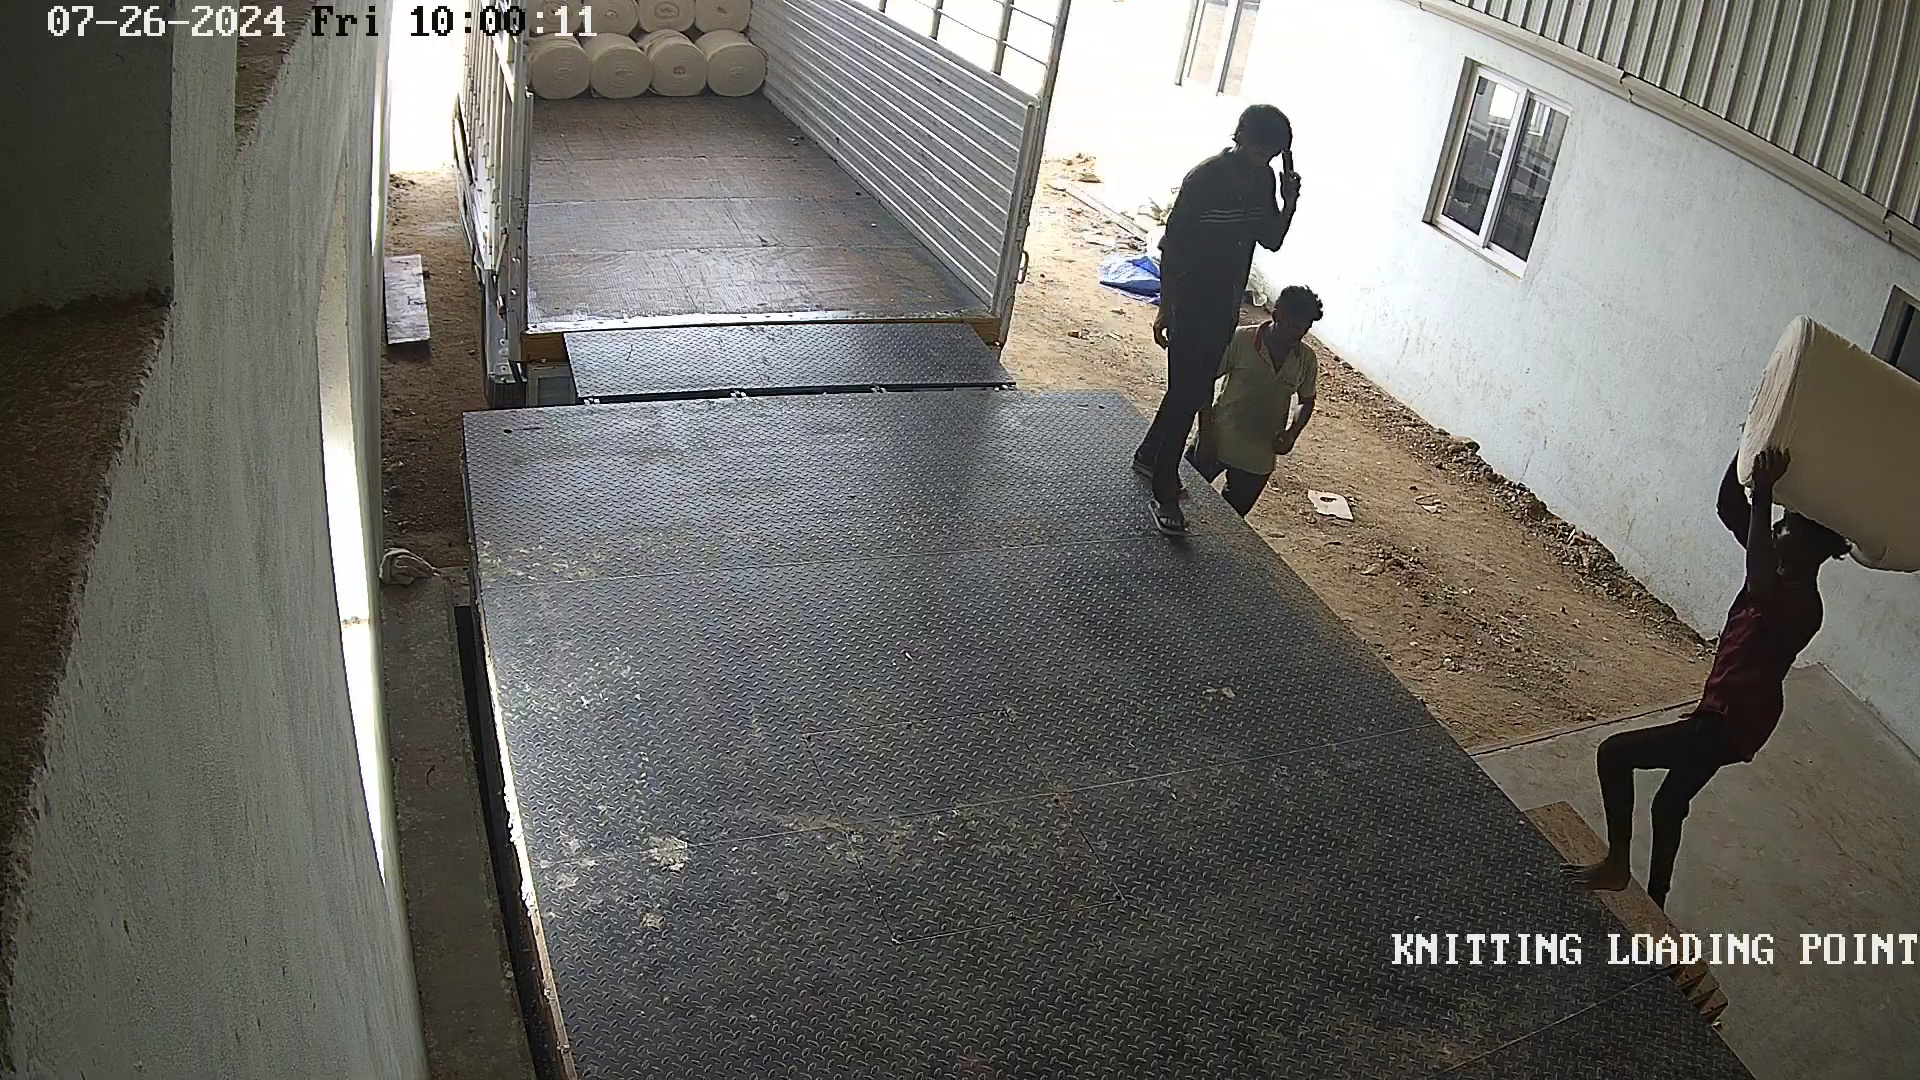bag: (1729, 305, 1920, 575)
